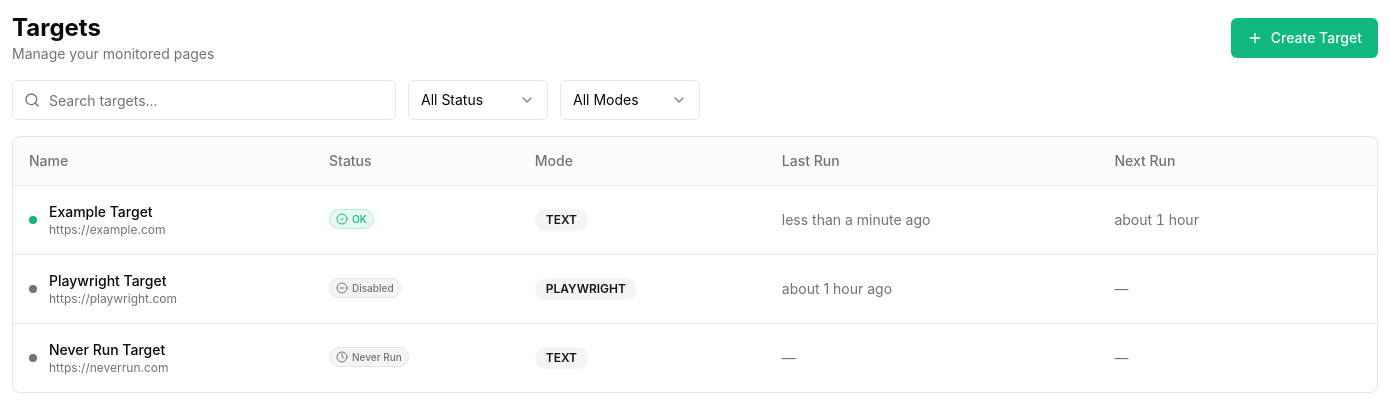
TargetsList › status and mode filters › should filter by disabled status
Expected: the text "Example Target" is shown, [49,202,166,222]
Step 1. Click the dropdown labelled "All Status" → (478, 100), box [408,80,548,120]
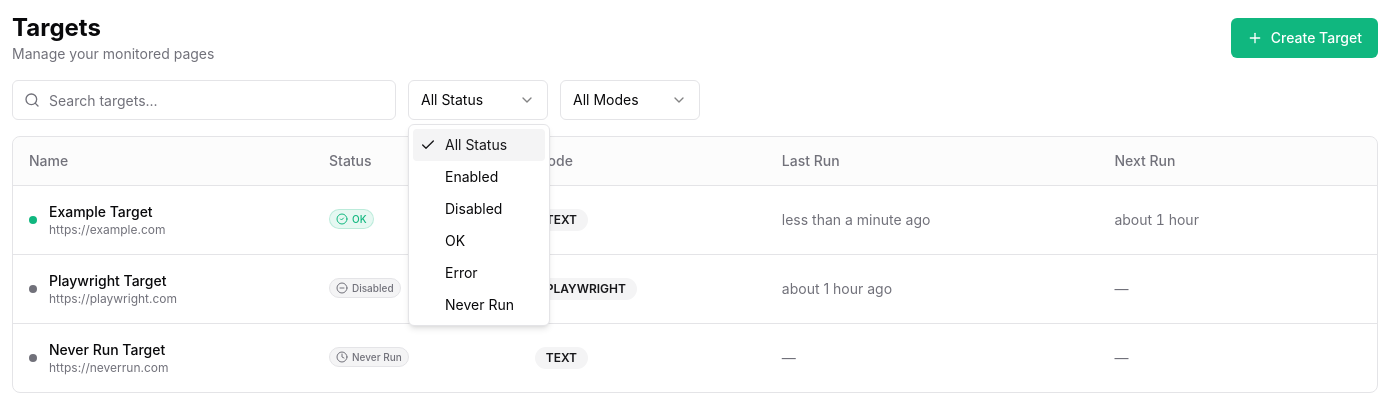
Expected: the option "Disabled" is shown
Step 2. Click the option "Disabled" → (474, 208), box [445,200,502,217]
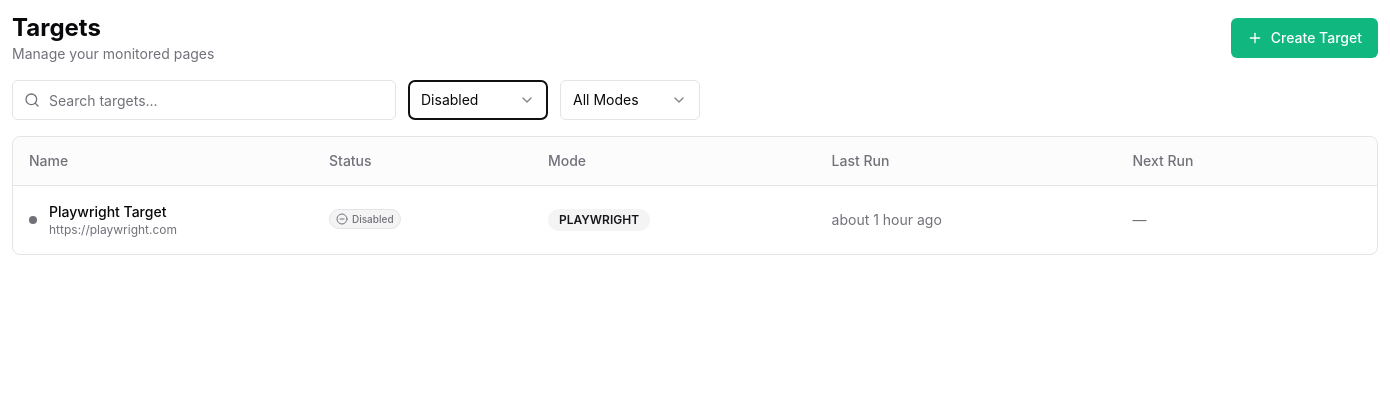
Expected: the text "Playwright Target" is shown, [49,202,177,222]
Expected: the text "Example Target" is gone
